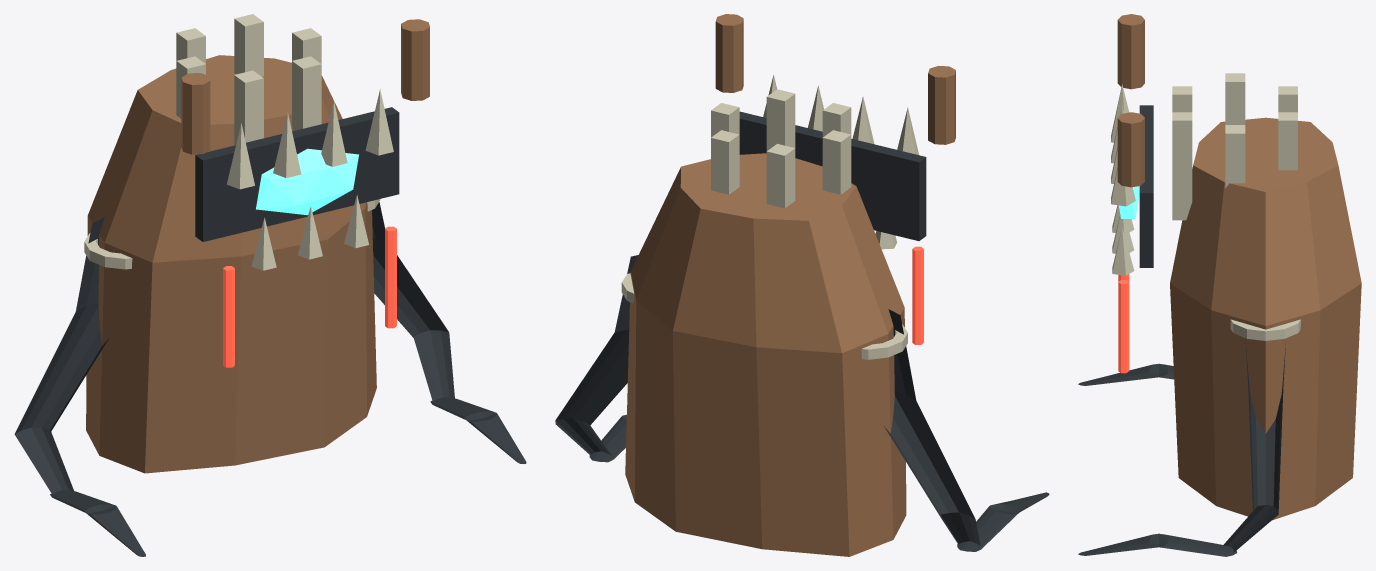
The model's file is hearthmimic.fbx.
3 renders of one model, left to right at view 1: azimuth 30°, elevation 25°; view 2: azimuth 150°, elevation 25°; view 3: azimuth 270°, elevation 25°, orthographic. The views are drawn at different scales.
Visible parts, largest first — view 1: bellied_reliquary, HP_hearth_mouth, leg_0_skin.002, leg_1_skin.002, HP_hearth_ember, HP_hearth_hinge_0, HP_hearth_hinge_1, false_latch_5, false_latch_4, leg_1_hook.002, leg_0_hook.002, false_latch_1 (+13 smaller); view 2: bellied_reliquary, HP_hearth_mouth, leg_0_skin.002, leg_1_skin.002, HP_hearth_hinge_1, HP_hearth_hinge_0, false_latch_2, false_latch_3, false_latch_1, false_latch_5, leg_0_hook.002, HP_hearth_crack_a (+4 smaller); view 3: bellied_reliquary, leg_1_skin.002, false_latch_5, HP_hearth_mouth, HP_hearth_hinge_1, HP_hearth_hinge_0, leg_1_hook.002, false_latch_0, false_latch_1, HP_hearth_crack_b, false_latch_3, leg_1_joint.002 (+6 smaller).
Boxes of the visible parts, x1,y1,x2,y2 form: bellied_reliquary: (86,55,376,473); HP_hearth_mouth: (195,107,399,241); leg_0_skin.002: (14,217,108,494); leg_1_skin.002: (372,202,454,401); HP_hearth_ember: (256,148,358,215); HP_hearth_hinge_0: (181,73,210,154); HP_hearth_hinge_1: (401,19,429,100); false_latch_5: (292,56,321,130); false_latch_4: (234,70,263,145); leg_1_hook.002: (430,397,526,463); leg_0_hook.002: (50,490,145,556); false_latch_1: (234,14,263,76); bellied_reliquary: (625,153,906,556); HP_hearth_mouth: (739,111,926,240); leg_0_skin.002: (883,309,980,545); leg_1_skin.002: (555,255,638,456); HP_hearth_hinge_1: (715,14,743,92); HP_hearth_hinge_0: (928,66,955,144); false_latch_2: (766,143,795,208); false_latch_3: (822,130,851,194); false_latch_1: (711,130,739,194); false_latch_5: (766,89,795,150); leg_0_hook.002: (957,492,1049,551); HP_hearth_crack_a: (912,246,923,344); bellied_reliquary: (1170,117,1361,520); leg_1_skin.002: (1223,343,1285,551); false_latch_5: (1172,112,1192,220); HP_hearth_mouth: (1139,105,1153,267); HP_hearth_hinge_1: (1117,112,1144,187); HP_hearth_hinge_0: (1117,14,1144,89); leg_1_hook.002: (1078,533,1236,556); false_latch_0: (1225,125,1245,188); false_latch_1: (1278,112,1297,170); HP_hearth_crack_b: (1118,280,1129,373); false_latch_3: (1225,73,1245,124); leg_1_joint.002: (1230,319,1300,340).
Bounding box in the file's own units: 150 × 144 × 92.76.
